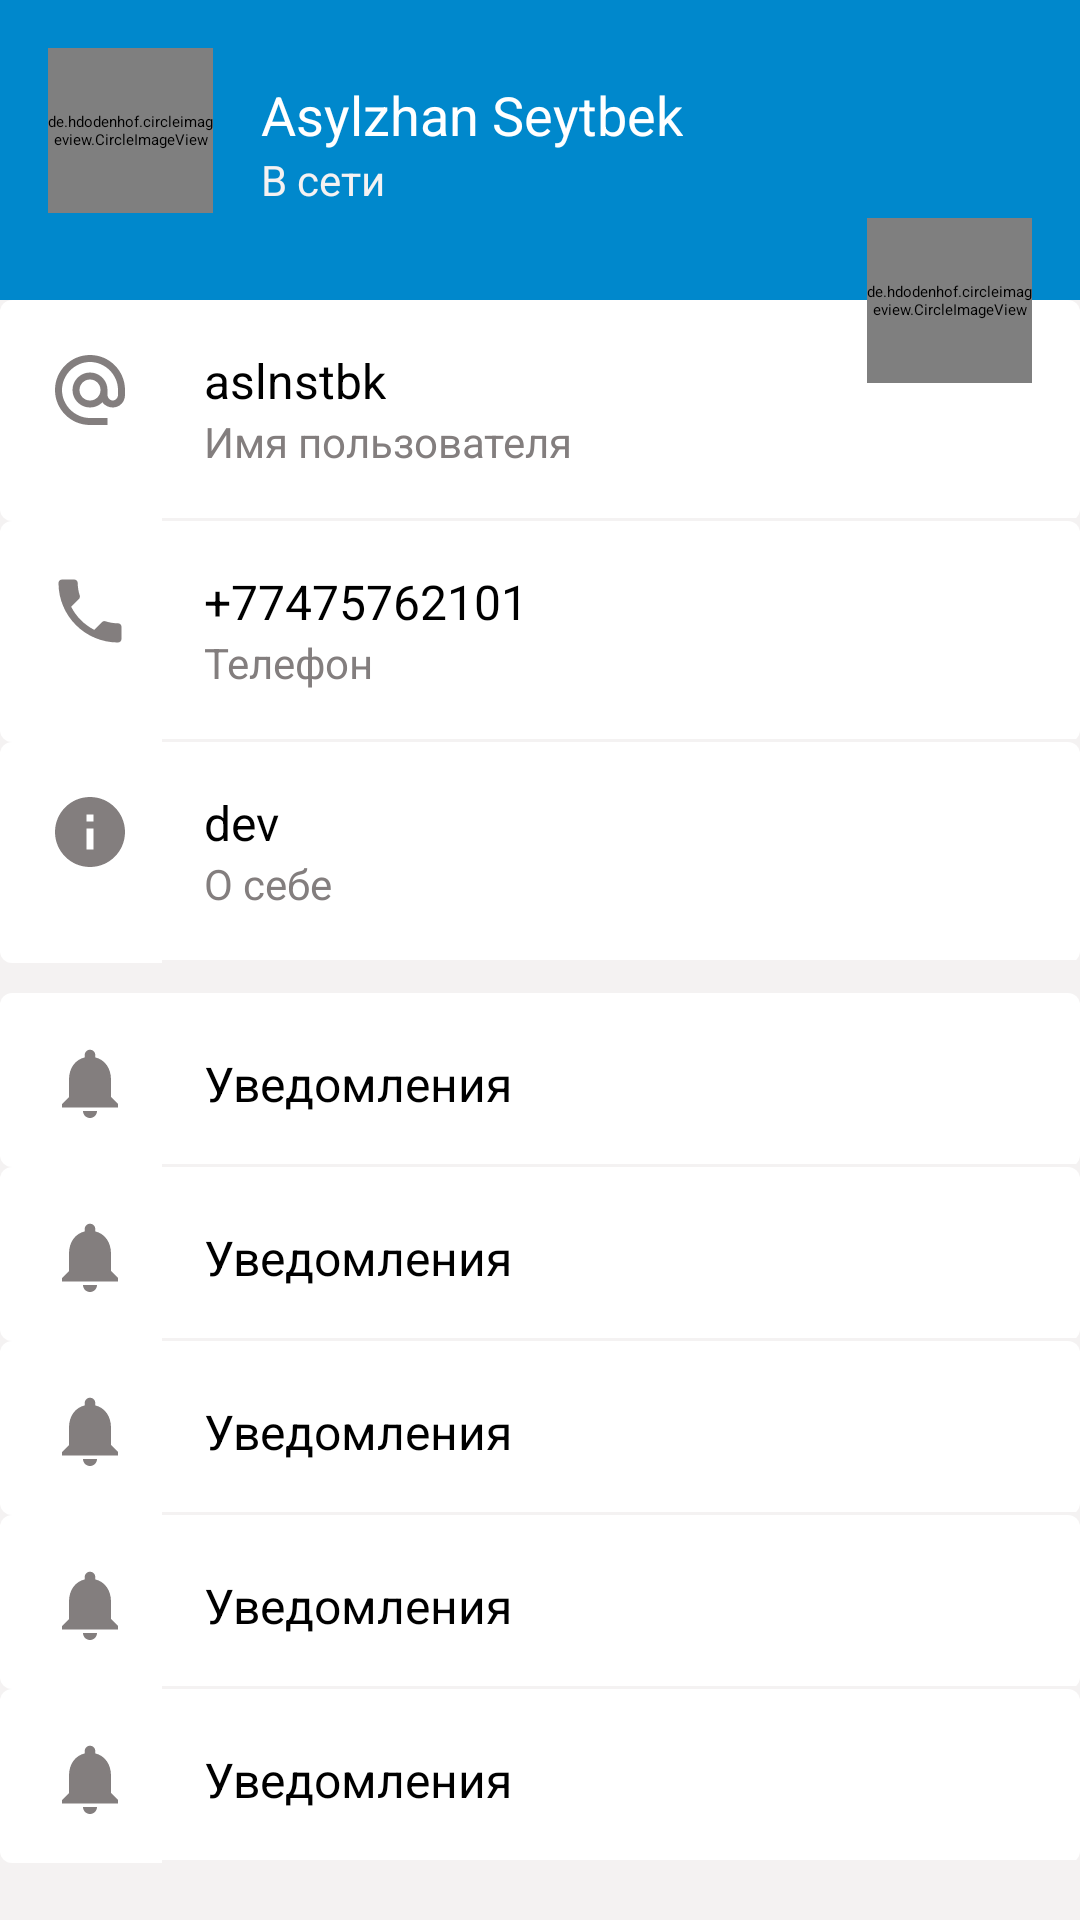

Where to tap for icons on this 1080 x 1920 app screen, as point (x, y):
bio: point (90, 832)
email: point (90, 390)
notify: point (90, 1083), point (90, 1257), point (90, 1431), point (90, 1605), point (90, 1779)
phone: point (90, 611)
